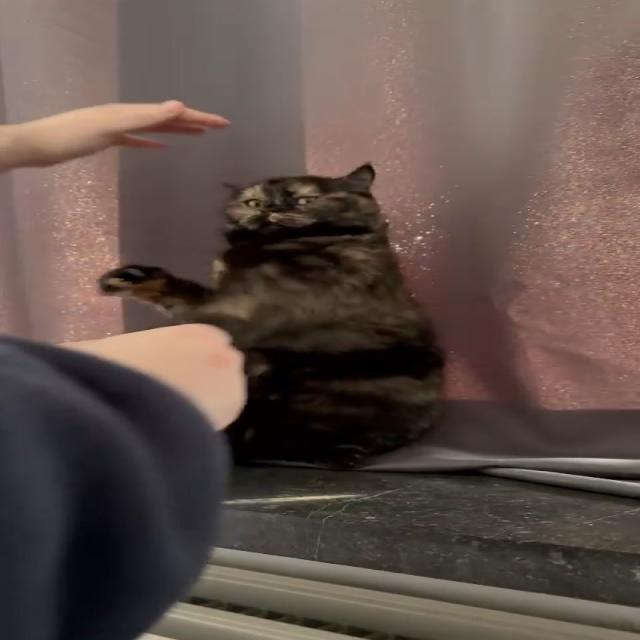authorized: (96, 161, 447, 470)
